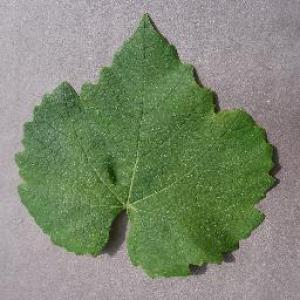Folha: (14, 10, 280, 279)
